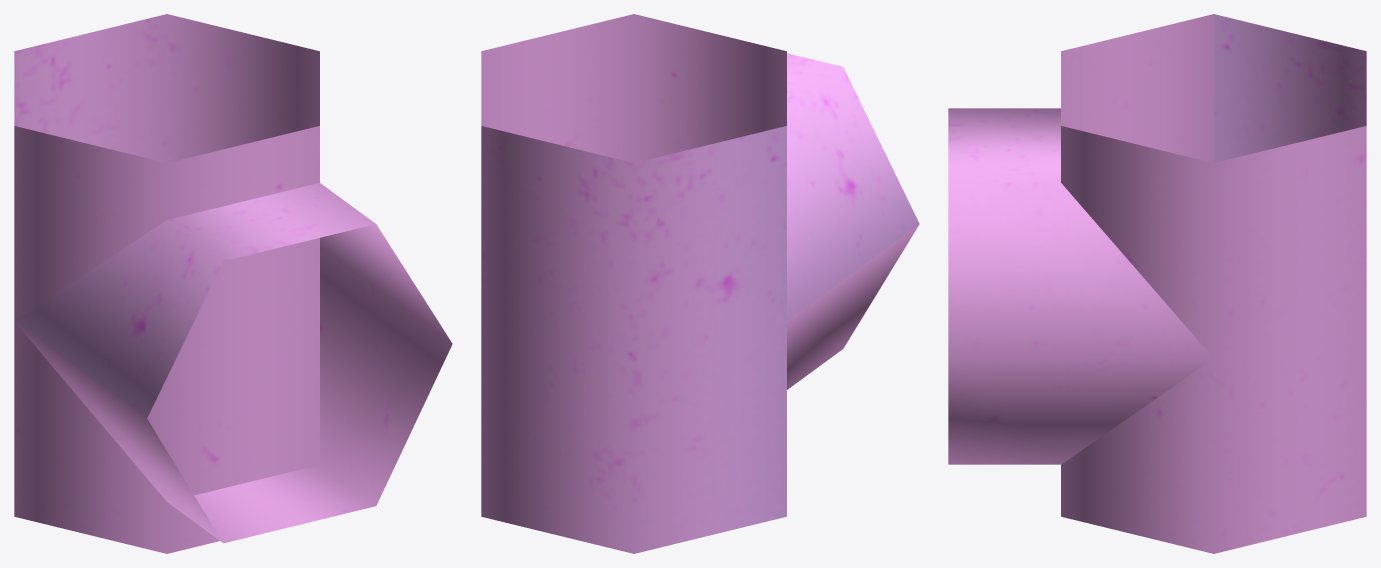
File: PipeMediumTJunction_01_SM_Low.fbx
3 views of the same model, side by side, from view 1: azimuth 30°, elevation 25°; view 2: azimuth 150°, elevation 25°; view 3: azimuth 270°, elevation 25° (orthographic).
Parts seen in each view (by area): view 1: Medium_T; view 2: Medium_T; view 3: Medium_T.
Part boxes in pixels (x1,y1,x2,y2): Medium_T: (14, 14, 452, 553); Medium_T: (481, 14, 919, 553); Medium_T: (948, 14, 1366, 553).
Bounding box in the file's own units: 52.96 × 64.72 × 62.79.
1 material, 1 textured.
